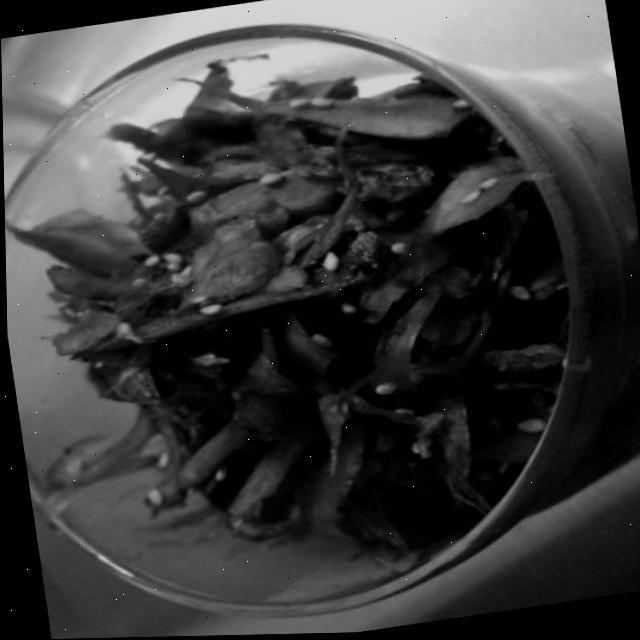蔬菜料理: (0, 9, 610, 634)
